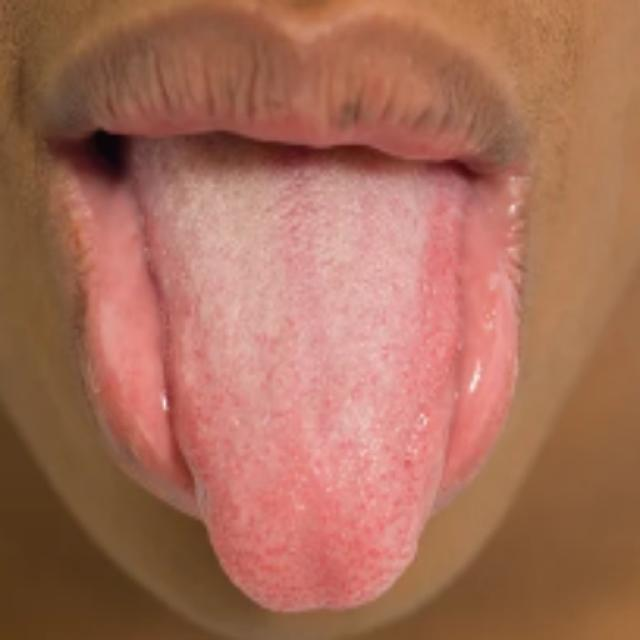processing_area: (73, 154, 510, 619)
